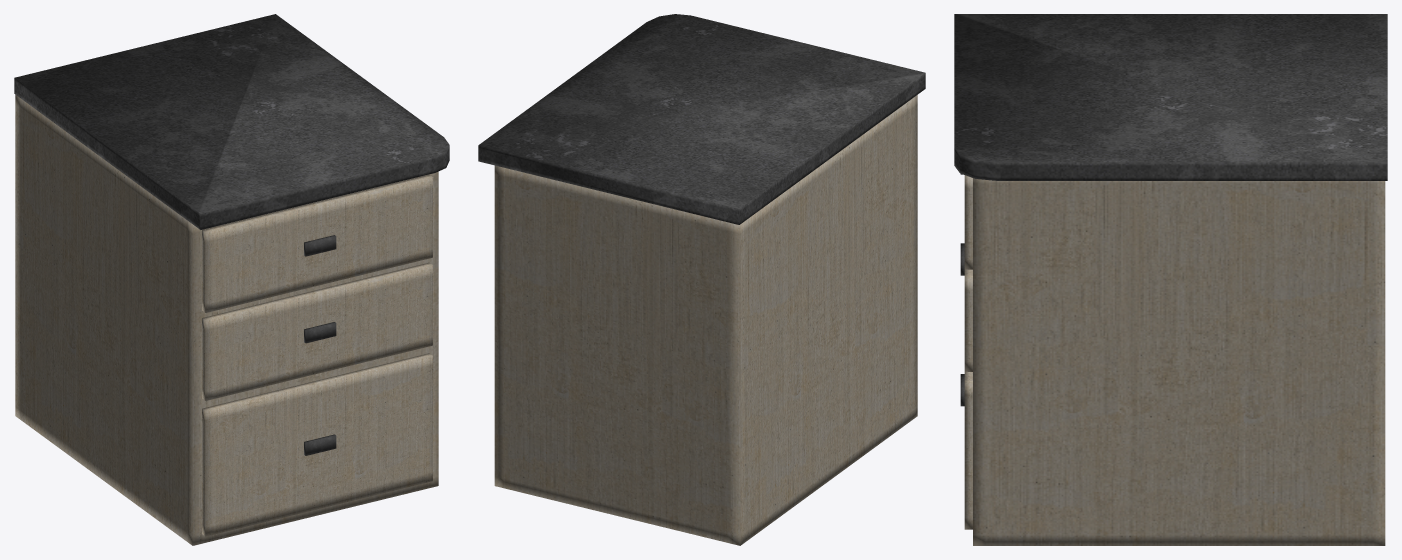
The model's file is cabinet.low.r.fbx.
The picture shows the model from 3 angles, left to right: view 1: azimuth 30°, elevation 25°; view 2: azimuth 150°, elevation 25°; view 3: azimuth 270°, elevation 25°; orthographic projection. The views are drawn at different scales.
Parts seen in each view (by area): view 1: Base, Cube, Drawer.001, Drawer.003, Drawer.002; view 2: Base, Cube; view 3: Base, Cube, Drawer.001, Drawer.002, Drawer.003.
Boxes of the visible parts, x1,y1,x2,y2 form: Base: [15, 94, 438, 545]; Cube: [14, 14, 449, 229]; Drawer.001: [202, 353, 432, 536]; Drawer.003: [202, 174, 432, 312]; Drawer.002: [202, 262, 432, 400]; Base: [494, 95, 917, 545]; Cube: [478, 14, 925, 224]; Base: [973, 178, 1385, 545]; Cube: [954, 14, 1387, 180]; Drawer.001: [964, 372, 972, 529]; Drawer.002: [964, 269, 972, 371]; Drawer.003: [964, 175, 972, 269].
Bounding box in the file's own units: 85 × 105 × 105.
